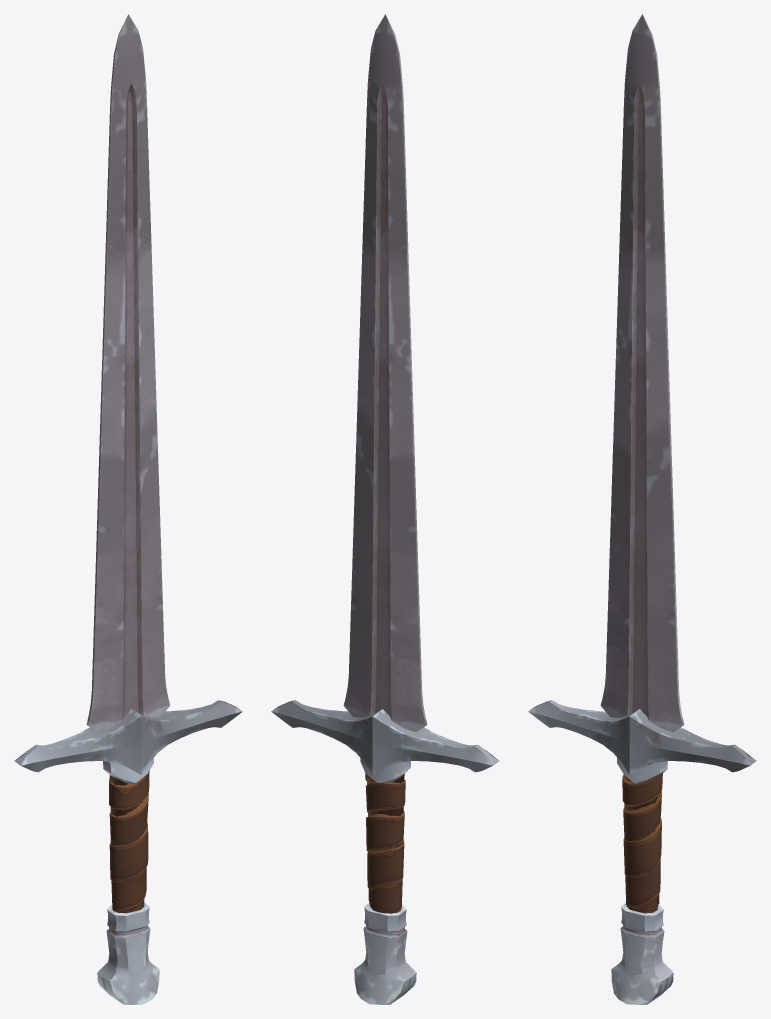
File: Sword_Steel.gltf
3 renders of one model, left to right at view 1: azimuth 30°, elevation 25°; view 2: azimuth 150°, elevation 25°; view 3: azimuth 330°, elevation 25°, orthographic.
Visible parts, largest first — view 1: Sword_Steel; view 2: Sword_Steel; view 3: Sword_Steel.
Boxes of the visible parts, x1=… form: Sword_Steel: x1=14, y1=14, x2=242, y2=1004; Sword_Steel: x1=271, y1=14, x2=499, y2=1004; Sword_Steel: x1=528, y1=14, x2=756, y2=1004.
Size of the model in its own units: 0.2666 by 1.13 by 0.0654.
Materials: 1 (1 with a texture image).
